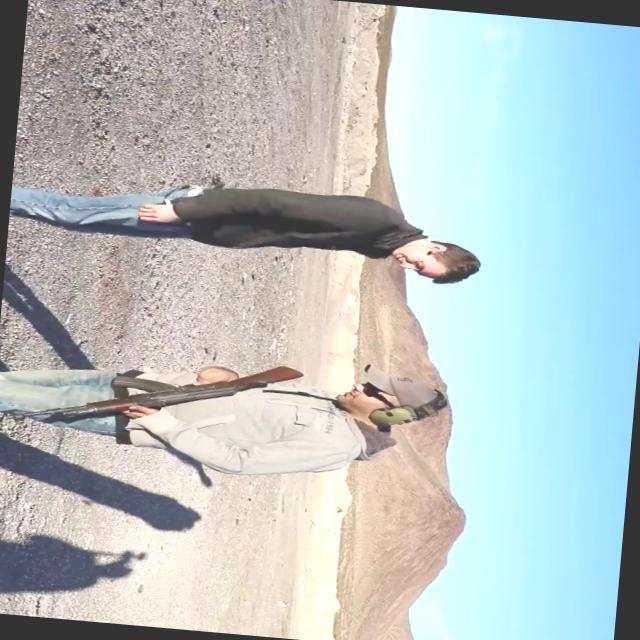long weapon: (0, 339, 313, 457)
